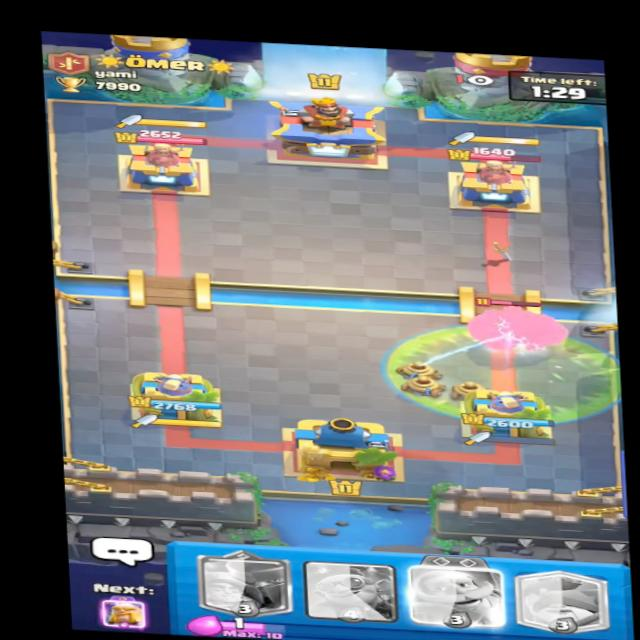Royalgiant: (463, 296, 579, 357)
